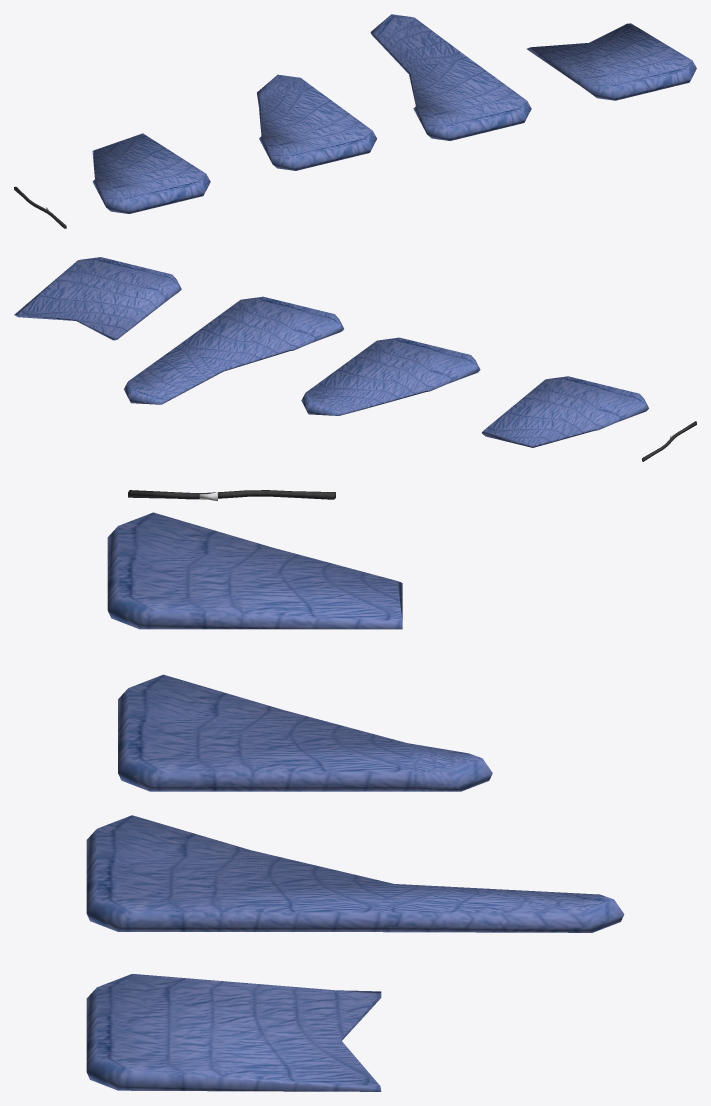
The model's file is DamagedSleepingBags_Blue.obj.
The picture shows the model from 3 angles, top to bottom: view 1: azimuth 30°, elevation 25°; view 2: azimuth 150°, elevation 25°; view 3: azimuth 270°, elevation 25°; orthographic projection. The views are drawn at different scales.
Parts seen in each view (by area): view 1: Cube.008_Material.015, Cube.006_Material.015, Cube.009_Material.015, Cube.005_Material.015; view 2: Cube.008_Material.015, Cube.006_Material.015, Cube.009_Material.015, Cube.005_Material.015; view 3: Cube.008_Material.015, Cube.009_Material.015, Cube.006_Material.015, Cube.005_Material.015, Plane.002_Material.015.
Boxes of the visible parts, bbox=[...] form: Cube.008_Material.015: bbox=[370, 14, 531, 140]; Cube.006_Material.015: bbox=[257, 74, 376, 170]; Cube.009_Material.015: bbox=[527, 23, 696, 100]; Cube.005_Material.015: bbox=[92, 133, 210, 213]; Cube.008_Material.015: bbox=[124, 296, 343, 404]; Cube.006_Material.015: bbox=[301, 337, 480, 415]; Cube.009_Material.015: bbox=[14, 257, 181, 340]; Cube.005_Material.015: bbox=[482, 376, 648, 447]; Cube.008_Material.015: bbox=[86, 815, 624, 932]; Cube.009_Material.015: bbox=[86, 974, 381, 1091]; Cube.006_Material.015: bbox=[118, 674, 492, 791]; Cube.005_Material.015: bbox=[107, 512, 402, 629]; Plane.002_Material.015: bbox=[128, 490, 335, 499].
Bounding box in the file's own units: 4.71 × 0.1058 × 1.77.
